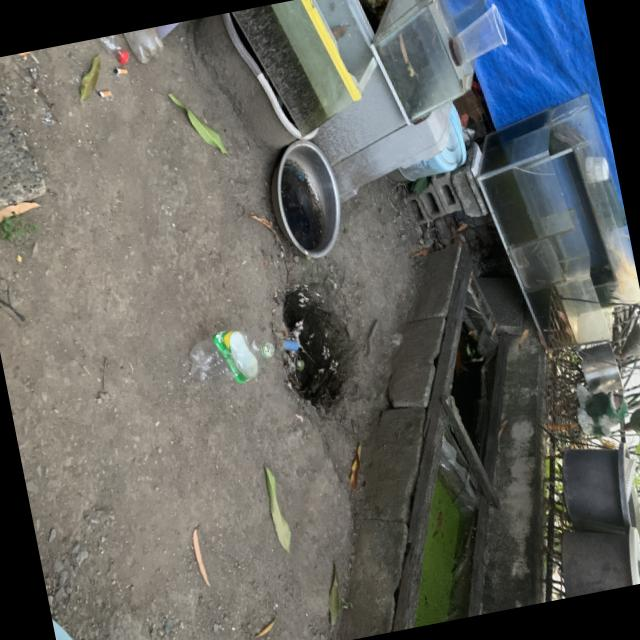Bottle: (190, 330, 275, 383)
